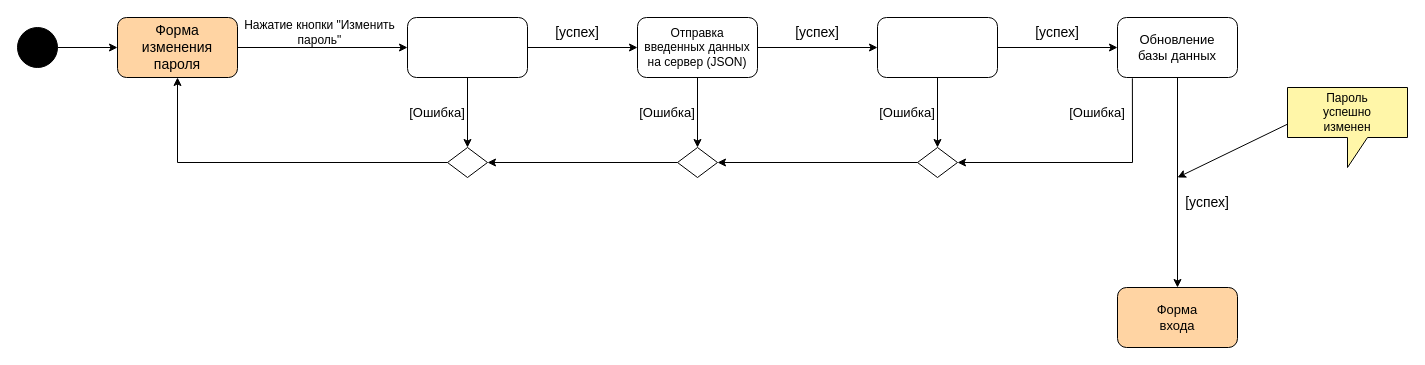
This 1425x365 diagram has some shape labels left out. The shapes that lost their labels are listed below. From the top down, each one's box as (x1, y1, x2, y2) in pixels, then its label:
(406, 16, 528, 78): Валидация данных на клиенте
(876, 16, 998, 78): Валидация введенных данных на сервере
